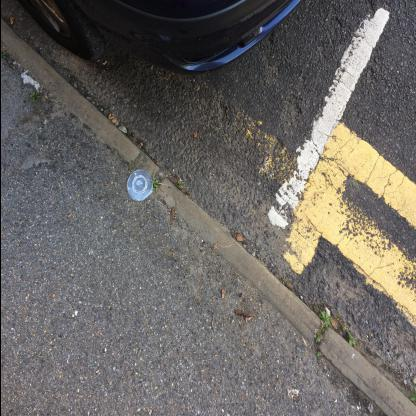plastik: (125, 169, 152, 202)
